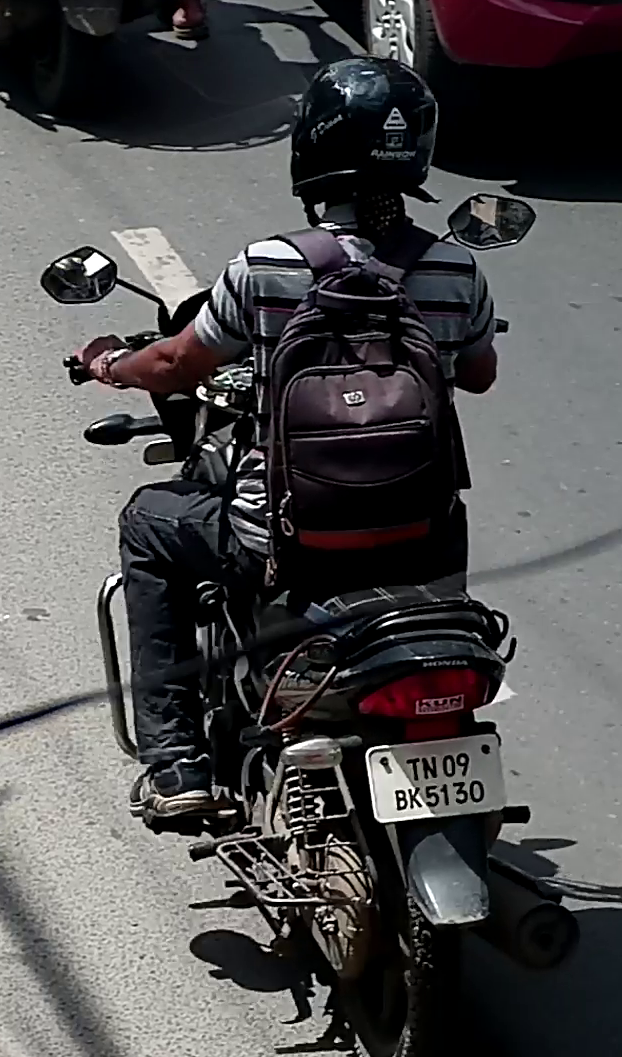0: (469, 780, 483, 804), (441, 755, 454, 777)
1: (439, 784, 450, 806)
3: (452, 781, 467, 806)
5: (424, 785, 438, 807)
9: (456, 753, 470, 777)
B: (394, 788, 407, 811)
K: (408, 786, 421, 810)
N: (421, 756, 436, 781)
P16: (363, 731, 506, 826)
T: (405, 757, 419, 781)
